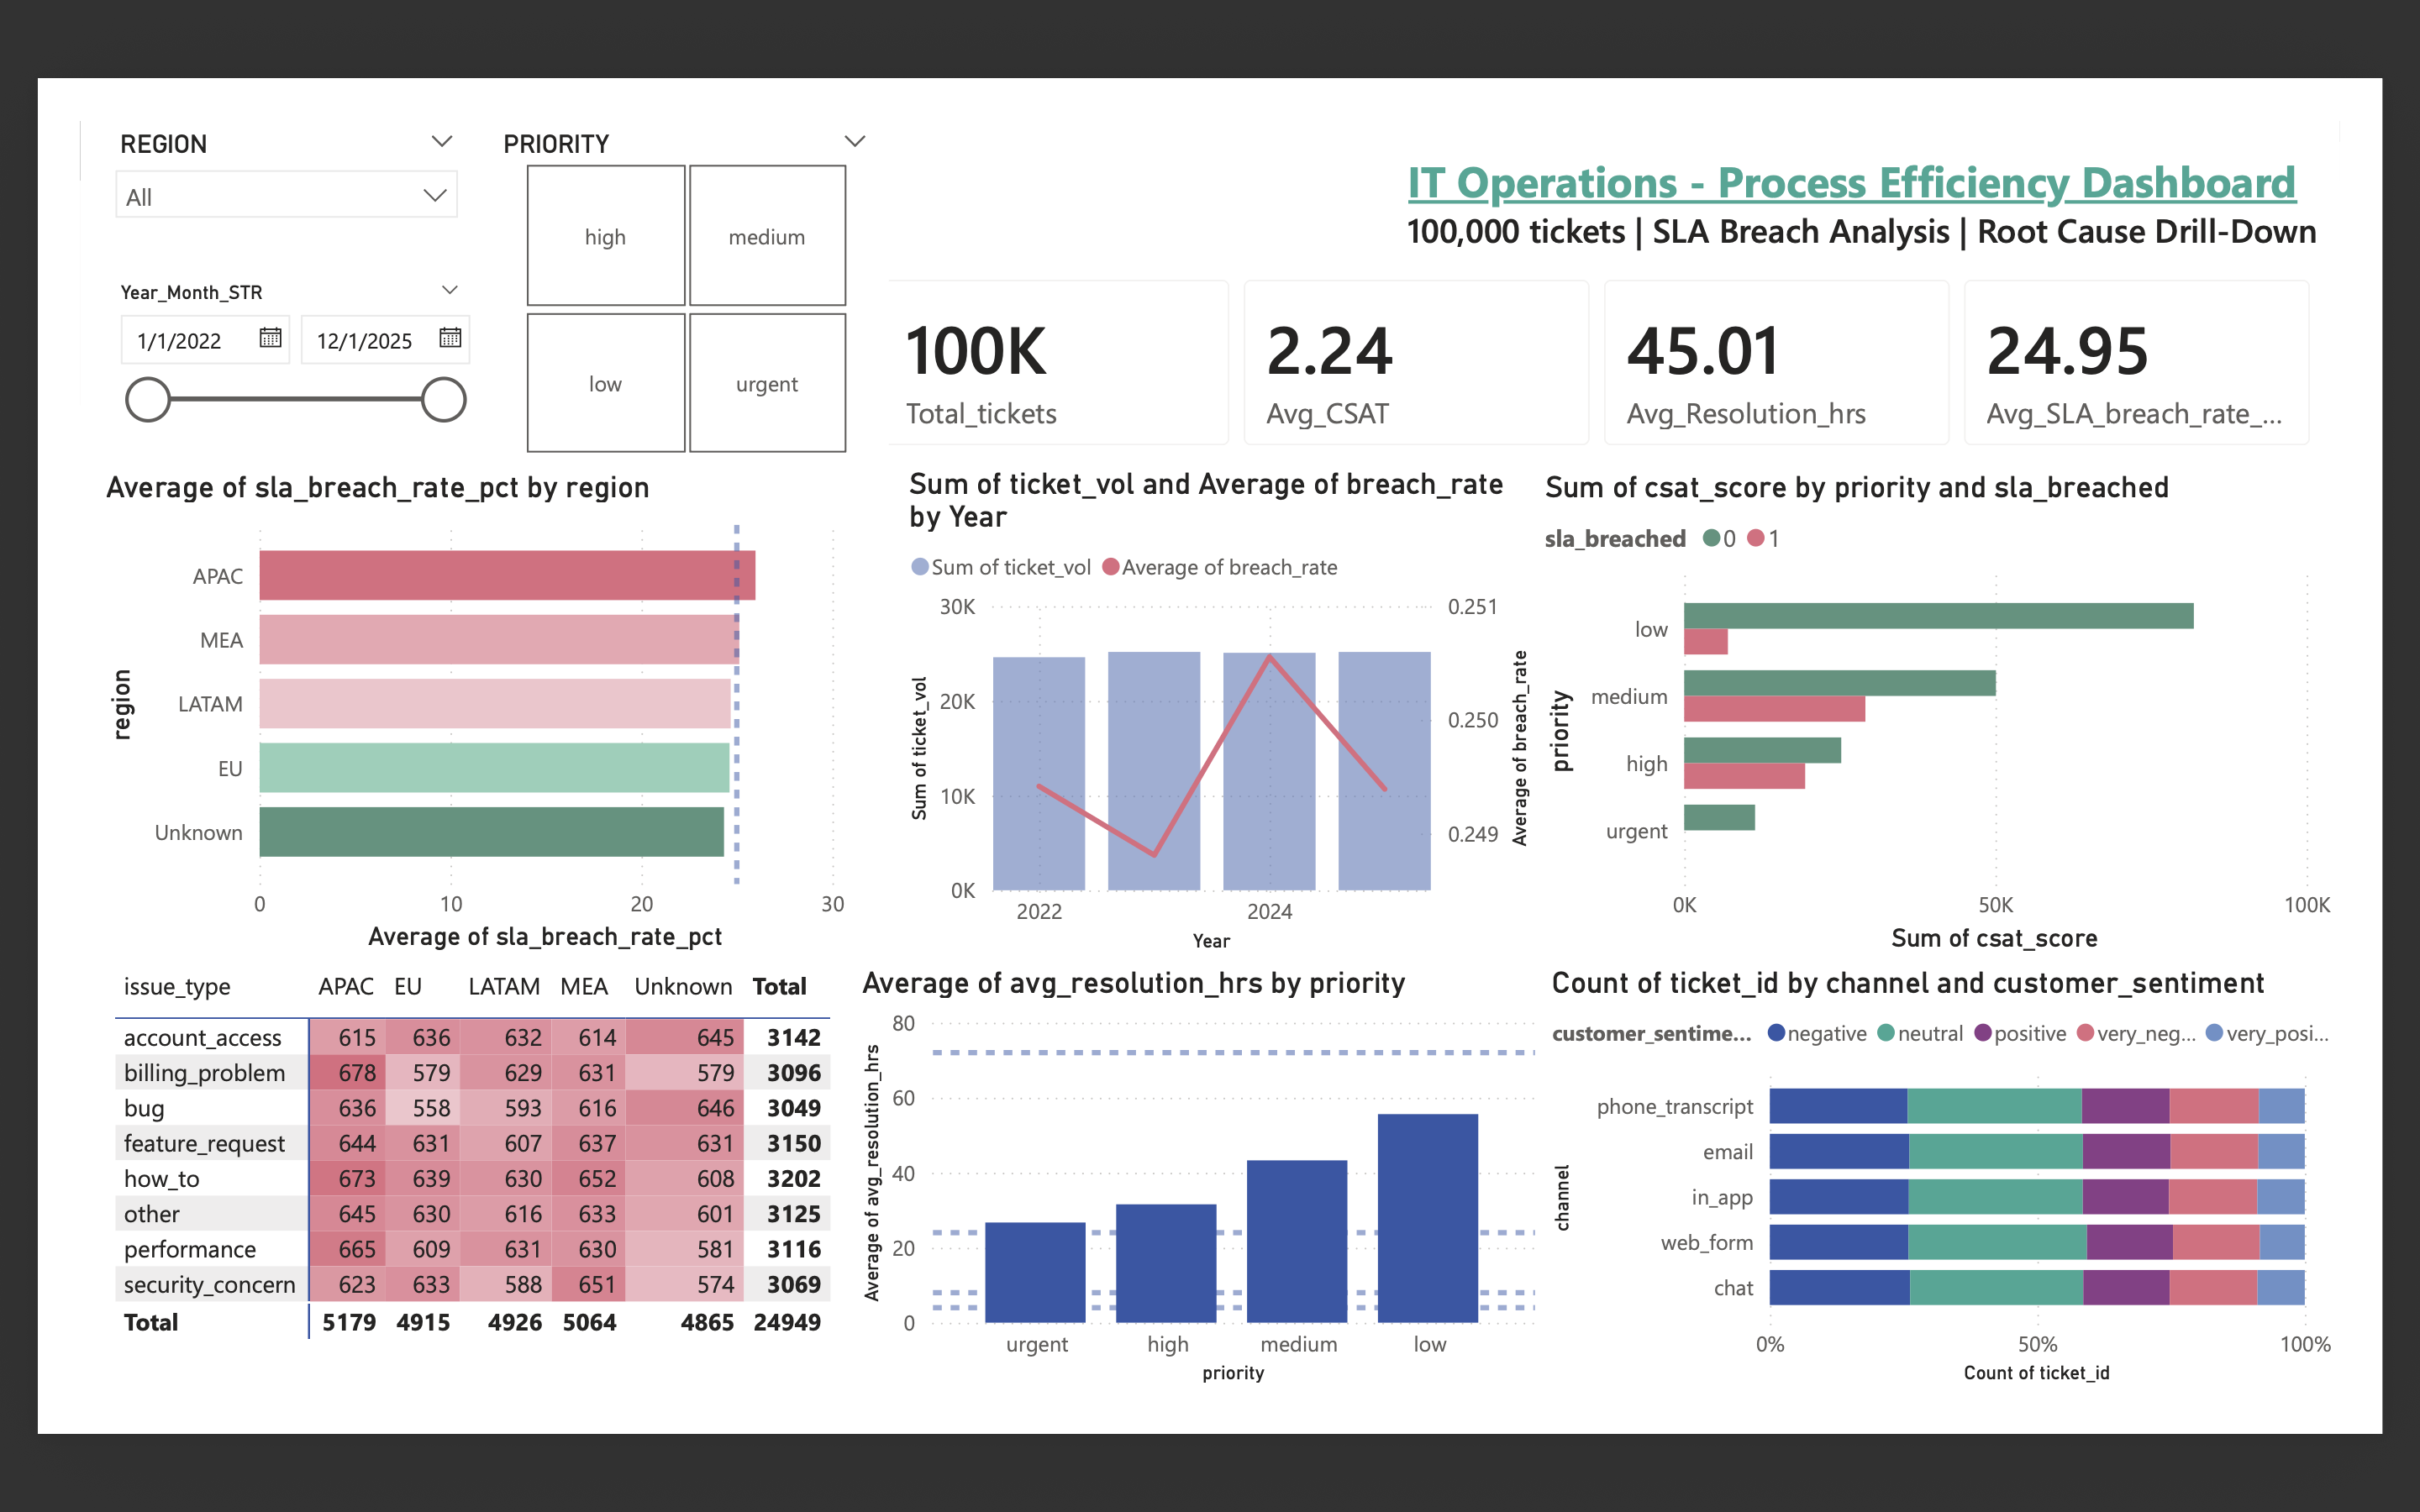

This screenshot's page, from the dashboard's own definition file:
{"tool":"powerbi","page":{"name":"Operations KPI","canvas":[1280,720],"ordinal":0},"visuals":[{"type":"cardVisual","fields":{"Data":["Sum(kpi_by_region.total_tickets)","Avg(kpi_by_region.avg_csat)","Avg(kpi_by_region.avg_resolution_hrs)","Avg(kpi_by_region.sla_breach_rate_pct)"]},"box":[437.7,72.7,842.1,128.2],"z":0},{"type":"clusteredBarChart","fields":{"Category":["kpi_by_region.region"],"Y":["Avg(kpi_by_region.sla_breach_rate_pct)"]},"box":[9.9,197.5,428.3,277.7],"z":1000},{"type":"lineClusteredColumnComboChart","fields":{"Category":["monthly_sla_trend.year_month_str.Variation.Date Hierarchy.Year","monthly_sla_trend.year_month_str.Variation.Date Hierarchy.Quarter","monthly_sla_trend.year_month_str.Variation.Date Hierarchy.Month","monthly_sla_trend.year_month_str.Variation.Date Hierarchy.Day"],"Y":["Sum(monthly_sla_trend.ticket_vol)"],"Y2":["Avg(monthly_sla_trend.breach_rate)"]},"box":[465.3,195,360.4,280.2],"z":2000},{"type":"pivotTable","fields":{"Rows":["root_cause_breach.issue_type"],"Columns":["root_cause_breach.region"],"Values":["Sum(root_cause_breach.breach_count)"]},"box":[14.8,475.2,423.4,244.4],"z":3000},{"type":"clusteredColumnChart","fields":{"Category":["kpi_by_priority.priority"],"Y":["Avg(kpi_by_priority.avg_resolution_hrs)"]},"box":[438.2,477.7,391.3,241.9],"z":4000},{"type":"clusteredBarChart","fields":{"Category":["itsm_cleaned.priority"],"Y":["Sum(itsm_cleaned.csat_score)"],"Series":["itsm_cleaned.sla_breached"]},"box":[824.5,197.5,455.5,279],"z":5000},{"type":"hundredPercentStackedBarChart","fields":{"Category":["itsm_cleaned.channel"],"Y":["CountNonNull(itsm_cleaned.ticket_id)"],"Series":["itsm_cleaned.customer_sentiment"]},"box":[829,478,451,242],"z":6000},{"type":"slicer","fields":{"Values":["kpi_by_region.region"]},"box":[9.9,0,214.5,101.1],"z":7000},{"type":"slicer","fields":{"Values":["kpi_by_priority.priority"]},"box":[227.1,0,230.8,195],"z":8000},{"type":"slicer","fields":{"Values":["monthly_sla_trend.year_month_str"]},"box":[9.9,86.3,217,91.2],"z":9000},{"type":"textbox","box":[747.1,12.3,532.6,74],"z":10000}]}

Visuals, with their boxes on the page's 1280x720 design canvas (x1, y1, x2, y2). These are canvas units, not pixel positions in the 2420x1512 screenshot, which may show the page scaled, cropped or inside an application window:
cardVisual - Sum(kpi_by_region.total_tickets) x Avg(kpi_by_region.avg_csat): box(438, 73, 1280, 201)
clusteredBarChart - kpi_by_region.region x Avg(kpi_by_region.sla_breach_rate_pct): box(10, 198, 438, 475)
lineClusteredColumnComboChart - monthly_sla_trend.year_month_str.Variation.Date Hierarchy.Year x monthly_sla_trend.year_month_str.Variation.Date Hierarchy.Quarter: box(465, 195, 826, 475)
pivotTable - root_cause_breach.issue_type x root_cause_breach.region: box(15, 475, 438, 720)
clusteredColumnChart - kpi_by_priority.priority x Avg(kpi_by_priority.avg_resolution_hrs): box(438, 478, 830, 720)
clusteredBarChart - itsm_cleaned.priority x Sum(itsm_cleaned.csat_score): box(824, 198, 1280, 476)
hundredPercentStackedBarChart - itsm_cleaned.channel x CountNonNull(itsm_cleaned.ticket_id): box(829, 478, 1280, 720)
slicer - kpi_by_region.region: box(10, 0, 224, 101)
slicer - kpi_by_priority.priority: box(227, 0, 458, 195)
slicer - monthly_sla_trend.year_month_str: box(10, 86, 227, 178)
textbox: box(747, 12, 1280, 86)
